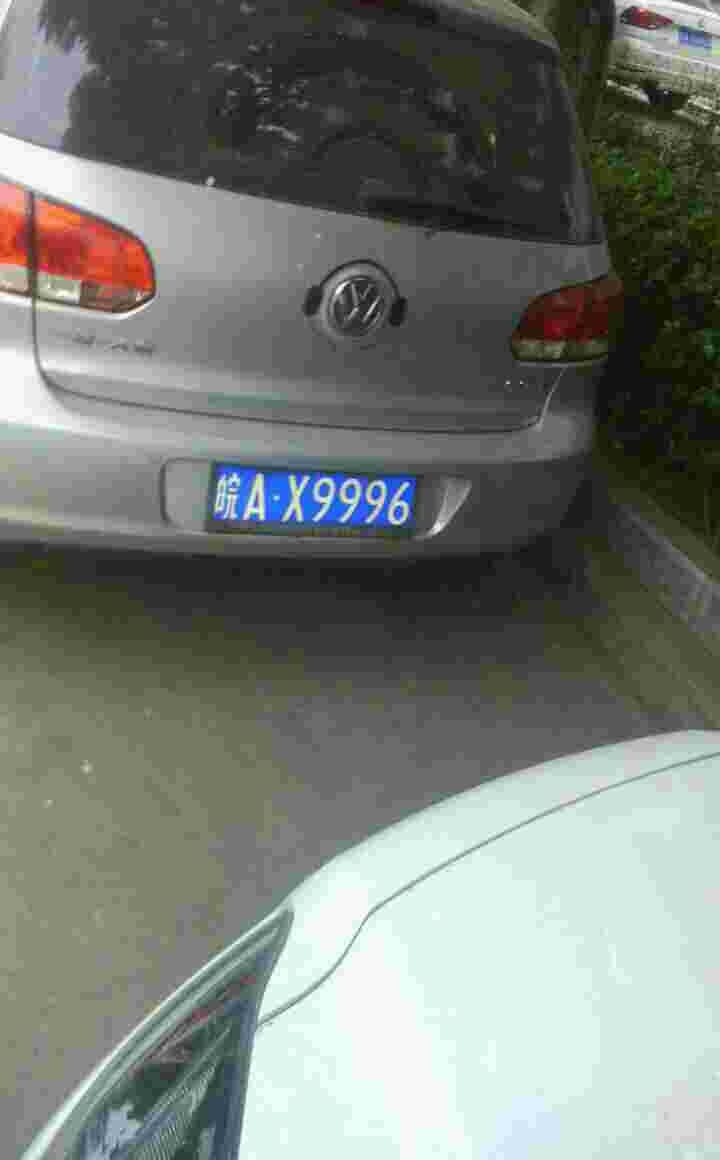license_plate: (219, 467, 416, 528)
